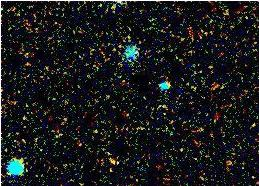star: (96, 138, 126, 168)
